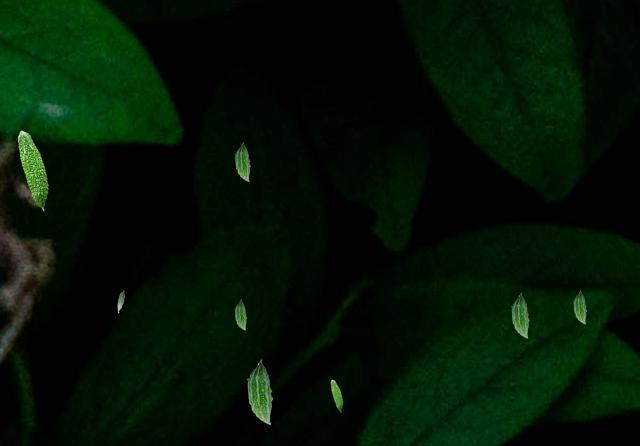ampalaya: (17, 130, 49, 211), (246, 359, 273, 425), (511, 292, 529, 338), (234, 142, 251, 182), (573, 290, 587, 324), (330, 379, 343, 412), (234, 298, 247, 330), (117, 290, 125, 313)
